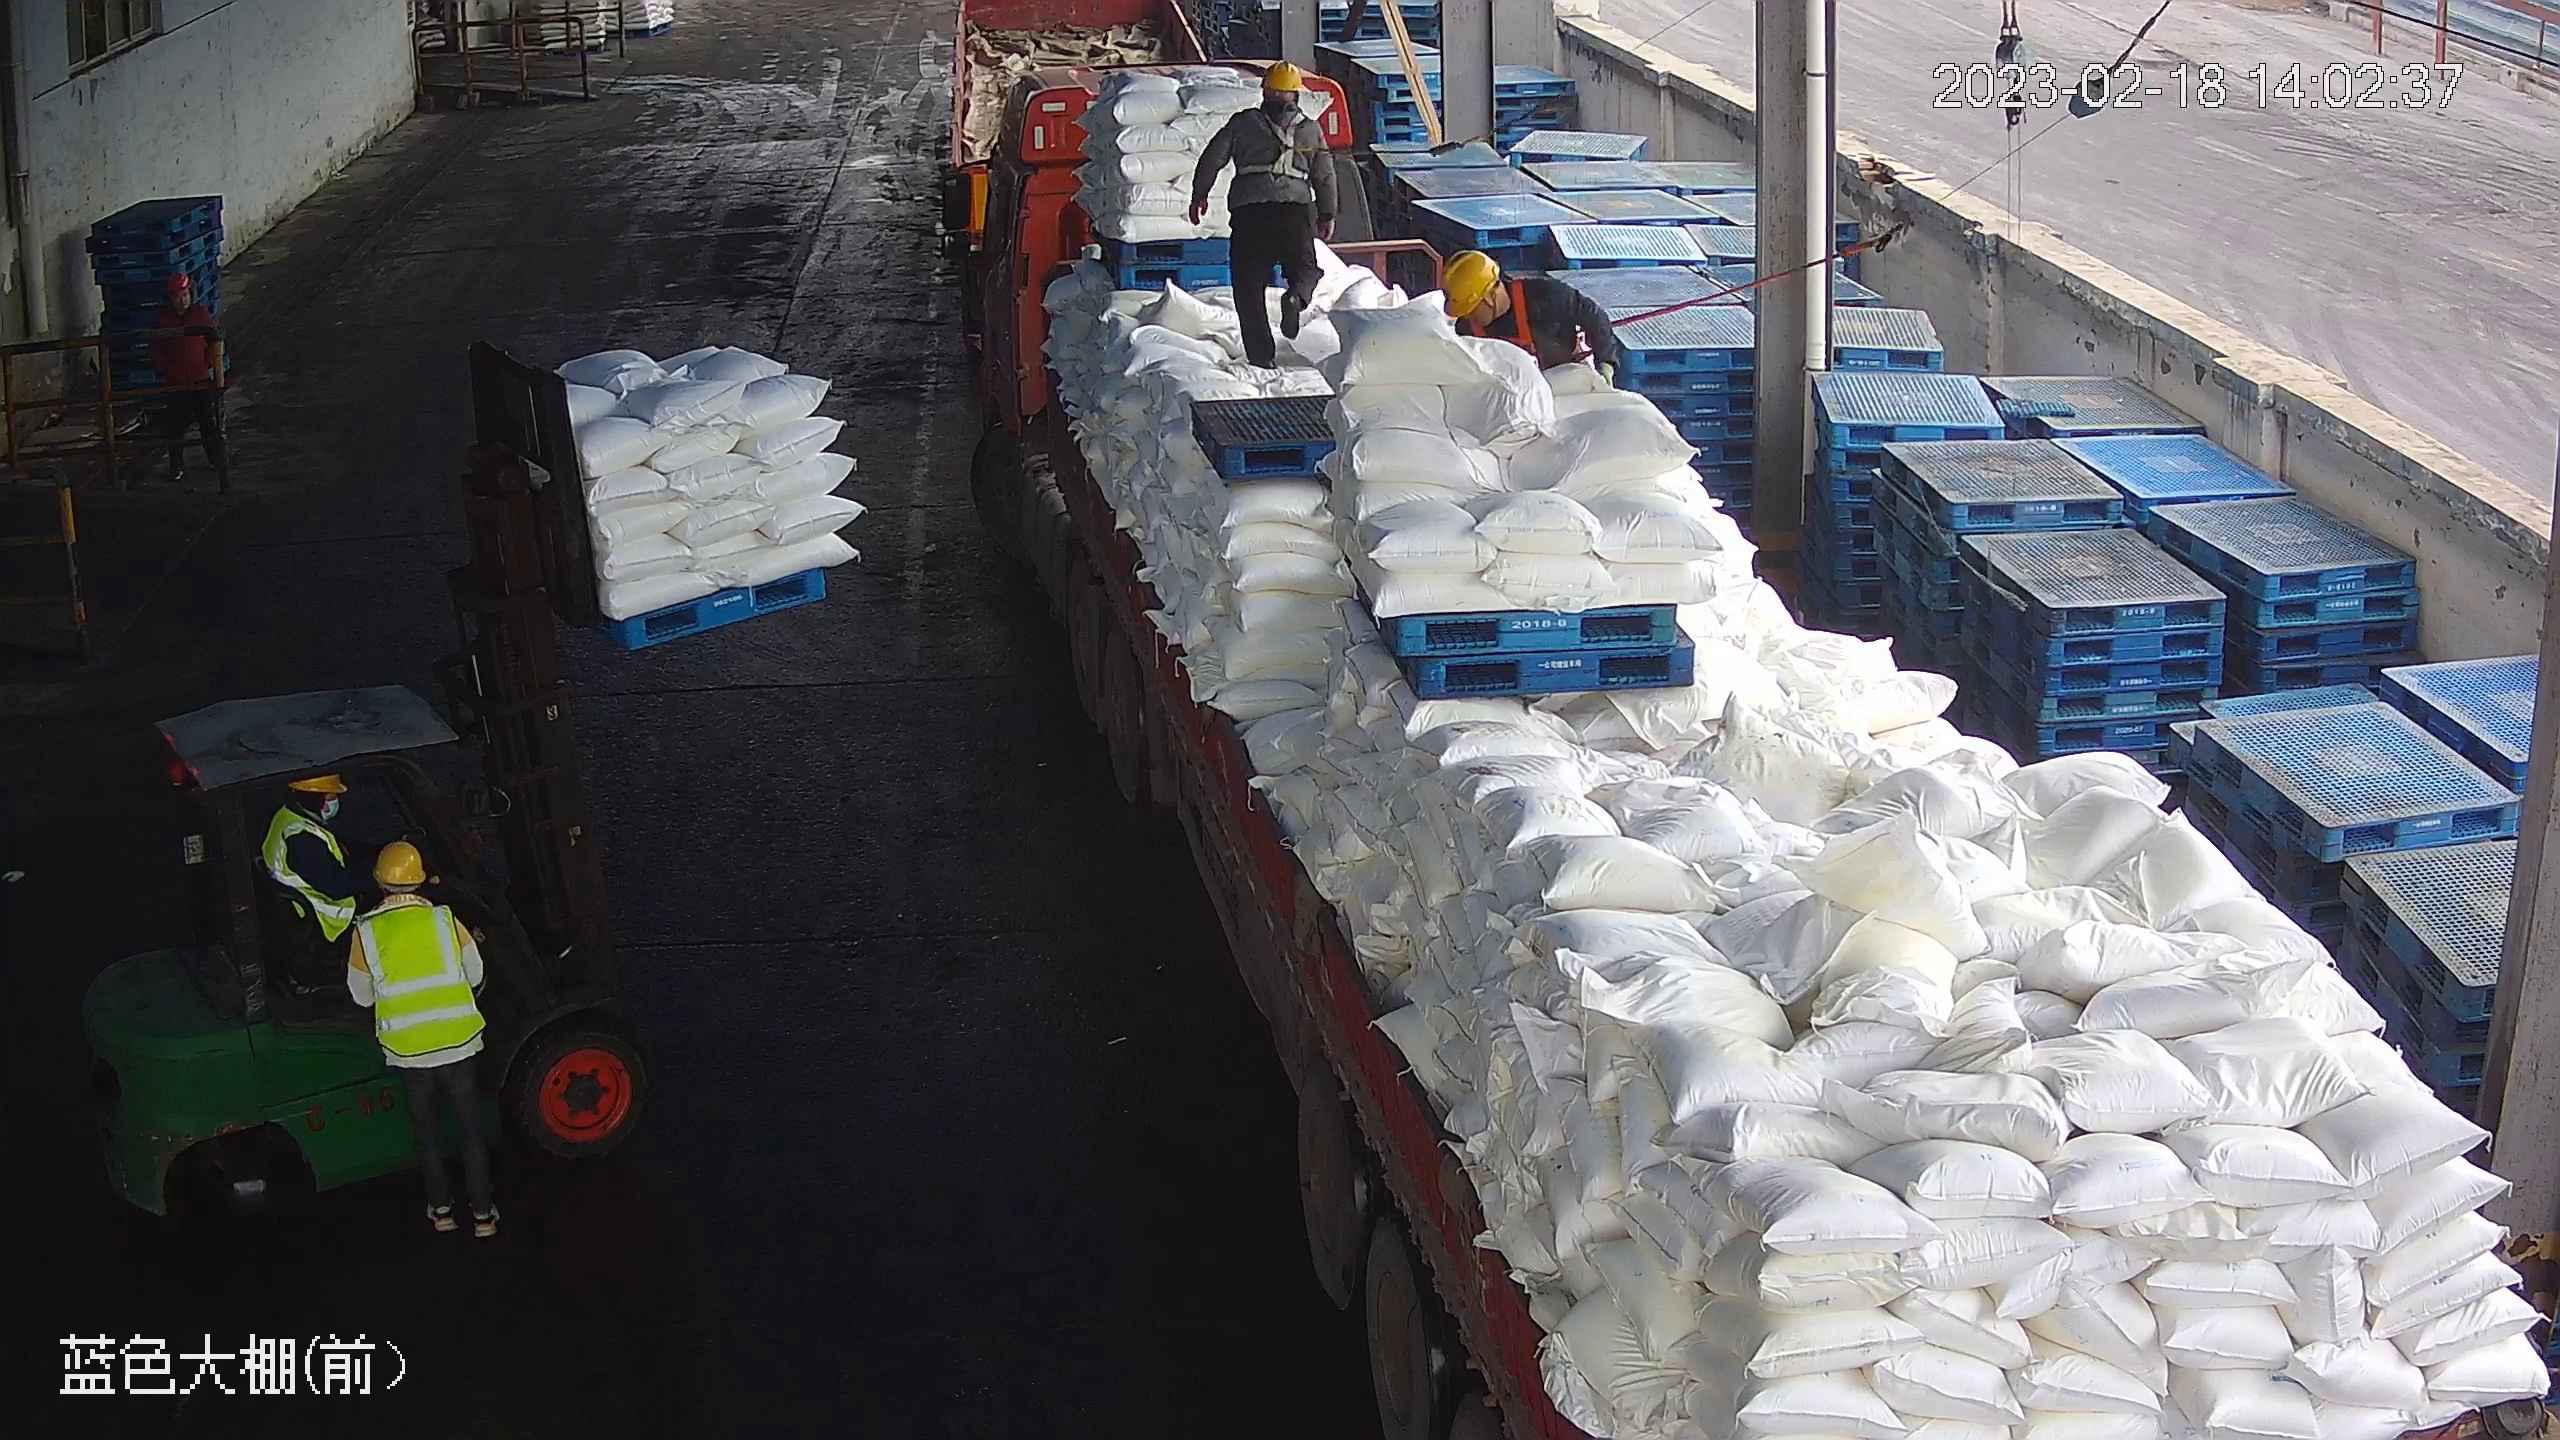belt: (1240, 107, 1329, 180), (1472, 286, 1547, 359)
head: (352, 839, 481, 971), (1439, 248, 1586, 339), (268, 769, 358, 864), (1220, 59, 1318, 147), (155, 269, 217, 332)
helmet: (1440, 249, 1502, 319), (367, 841, 430, 889), (1259, 59, 1308, 94), (167, 270, 197, 294)
people: (350, 843, 503, 1248), (1189, 58, 1333, 366), (263, 766, 367, 958), (147, 263, 229, 488)
truck: (973, 27, 2558, 1438)
